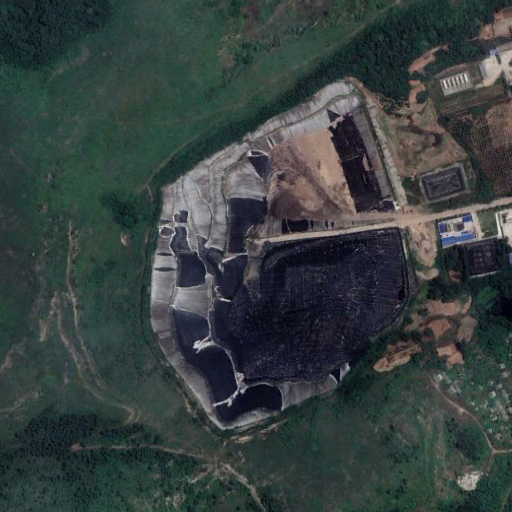lf: (150, 82, 416, 437)
